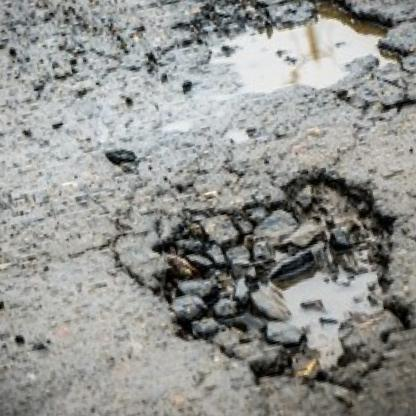pothole: (129, 150, 416, 412), (169, 0, 416, 128)
